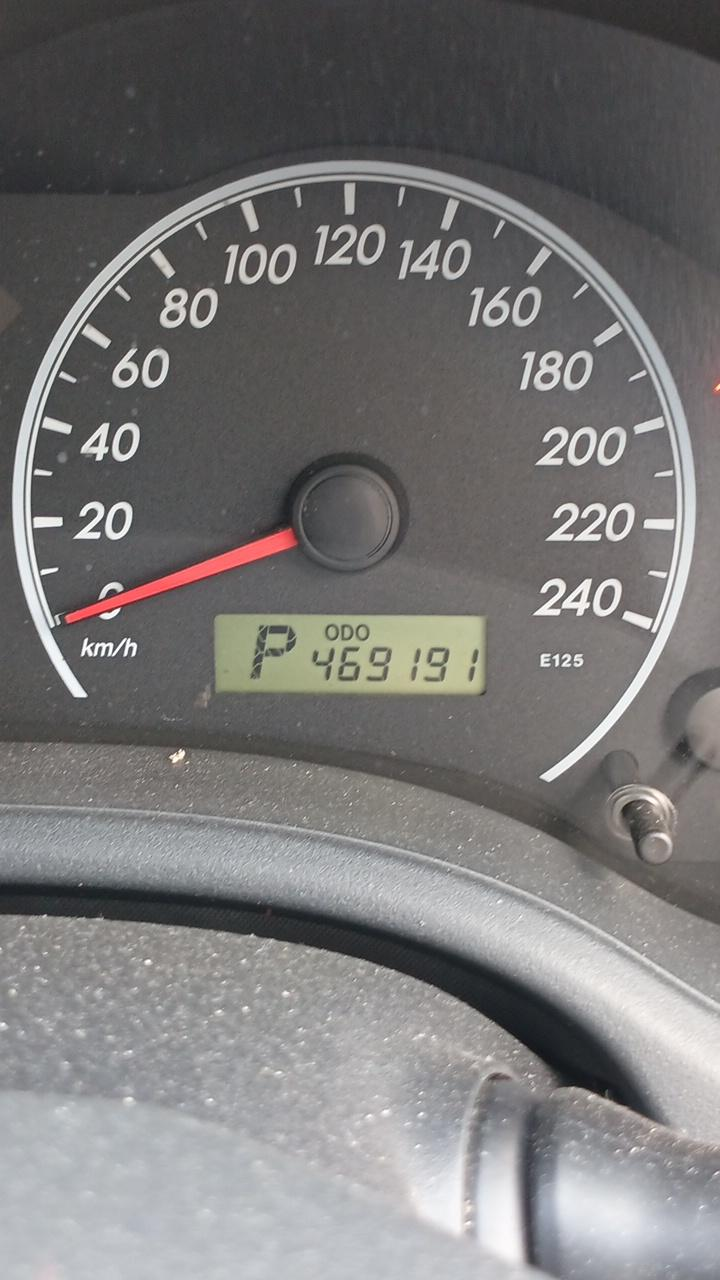1: (466, 648, 480, 684), (409, 647, 422, 683)
4: (311, 647, 335, 682)
6: (337, 646, 362, 682)
9: (366, 647, 393, 682), (423, 647, 450, 682)
X: (248, 623, 298, 680), (355, 624, 370, 641), (325, 624, 339, 640), (341, 624, 354, 641)
odometer: (213, 612, 488, 697)
